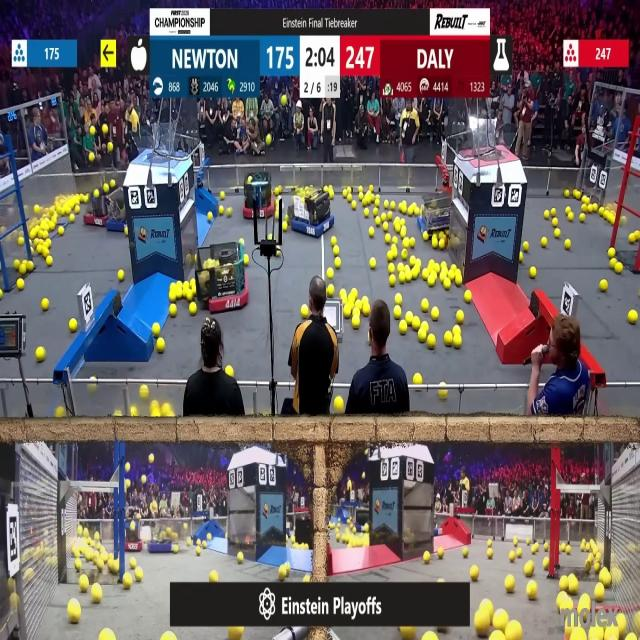ball_airborne: (132, 110, 139, 123), (102, 126, 109, 136), (267, 135, 273, 146), (281, 96, 287, 106), (90, 152, 96, 161), (91, 128, 97, 137), (108, 142, 113, 152), (149, 452, 154, 462), (348, 481, 353, 491), (136, 515, 140, 522), (360, 471, 364, 478)
ball_ground: (494, 612, 507, 633), (68, 600, 80, 622), (508, 623, 522, 640), (402, 627, 417, 640), (527, 583, 537, 601), (92, 586, 102, 604), (568, 578, 578, 596), (618, 617, 628, 634), (504, 578, 514, 594), (600, 570, 610, 586), (581, 595, 592, 609), (482, 600, 493, 614), (595, 586, 604, 603), (335, 396, 345, 411), (628, 311, 638, 325), (279, 564, 288, 579), (36, 347, 45, 362), (101, 630, 114, 640), (79, 578, 88, 592), (9, 594, 18, 608), (469, 565, 477, 580), (158, 339, 166, 354), (426, 336, 434, 350), (122, 574, 130, 588), (210, 570, 219, 582), (418, 329, 427, 341), (163, 405, 172, 417), (352, 316, 360, 329), (41, 299, 49, 312), (302, 306, 310, 319), (398, 321, 406, 334), (560, 579, 568, 592), (525, 563, 533, 576), (140, 386, 148, 399), (57, 408, 66, 419), (454, 337, 462, 349), (188, 304, 196, 316), (616, 264, 624, 276), (421, 300, 429, 312), (445, 334, 453, 346), (412, 318, 420, 330), (412, 269, 420, 281), (457, 311, 464, 324), (152, 323, 159, 336), (70, 319, 77, 332), (136, 568, 143, 581), (414, 374, 422, 385), (440, 389, 448, 400), (18, 265, 26, 276), (150, 400, 158, 411), (600, 280, 607, 292), (431, 308, 438, 320), (362, 305, 369, 317), (326, 285, 333, 297), (344, 307, 351, 319), (407, 312, 414, 324), (112, 561, 119, 573), (225, 365, 233, 375), (628, 234, 636, 244), (464, 290, 471, 301), (394, 307, 401, 318), (351, 288, 358, 299), (445, 279, 452, 290), (405, 272, 412, 283), (608, 213, 615, 224), (186, 289, 193, 300), (171, 305, 177, 317), (424, 552, 430, 564), (456, 274, 462, 286), (28, 262, 34, 274), (453, 325, 461, 334), (432, 237, 438, 249), (354, 301, 362, 310), (16, 280, 23, 290), (395, 293, 402, 303), (45, 256, 52, 266), (607, 248, 614, 258), (564, 240, 571, 250), (389, 276, 396, 286), (540, 238, 547, 248), (387, 250, 394, 260), (172, 543, 179, 553), (75, 560, 82, 570), (170, 291, 177, 301), (507, 552, 514, 562), (164, 633, 174, 640), (117, 271, 123, 282), (530, 268, 536, 279), (369, 257, 375, 268), (428, 276, 434, 287), (336, 257, 342, 268), (398, 273, 404, 284), (422, 270, 428, 281), (440, 239, 446, 250), (388, 265, 395, 274), (36, 246, 43, 255), (42, 246, 49, 255), (341, 288, 347, 298), (524, 242, 530, 252), (519, 252, 525, 262), (326, 269, 332, 279), (542, 559, 548, 569), (131, 558, 137, 568), (487, 550, 493, 560), (238, 554, 244, 564), (132, 408, 138, 418), (385, 235, 391, 245), (609, 258, 615, 268), (401, 250, 407, 260), (244, 254, 250, 264), (394, 221, 400, 231), (433, 262, 439, 272), (400, 204, 406, 214), (98, 559, 104, 569), (437, 549, 442, 560), (515, 549, 520, 560), (555, 230, 561, 239), (402, 239, 408, 248), (462, 549, 468, 558), (368, 229, 374, 238), (60, 225, 66, 234), (335, 247, 341, 256), (532, 543, 538, 552), (400, 230, 406, 239), (409, 207, 415, 216), (123, 462, 129, 471), (588, 204, 594, 213), (449, 272, 455, 281), (579, 542, 585, 551), (568, 212, 573, 222), (553, 217, 558, 227), (411, 238, 416, 248), (411, 256, 416, 266), (564, 208, 571, 215), (282, 222, 288, 230), (305, 574, 311, 582), (383, 222, 389, 230), (226, 208, 232, 216), (363, 209, 369, 217), (564, 189, 570, 197), (391, 237, 397, 245), (442, 263, 448, 271), (70, 215, 76, 223), (17, 238, 23, 246), (397, 265, 403, 273), (358, 192, 364, 200), (45, 240, 51, 248), (390, 202, 396, 210), (171, 282, 177, 290), (375, 200, 381, 208), (428, 259, 434, 267), (566, 545, 572, 553), (363, 524, 369, 532), (579, 213, 584, 222), (423, 233, 428, 242), (75, 206, 80, 215), (384, 201, 389, 210), (49, 221, 54, 230), (362, 295, 368, 302), (451, 265, 457, 272), (114, 412, 120, 419), (331, 238, 336, 246), (219, 207, 224, 215), (198, 548, 202, 558), (376, 217, 381, 225), (543, 211, 548, 219), (385, 212, 390, 220), (0, 289, 4, 299), (514, 537, 519, 545), (275, 212, 280, 220), (552, 209, 557, 217), (441, 274, 446, 282), (361, 199, 366, 207), (208, 212, 212, 221), (439, 577, 445, 583), (276, 250, 282, 256), (189, 280, 195, 286), (269, 235, 274, 242), (240, 239, 245, 246), (186, 538, 191, 545), (183, 280, 188, 287), (328, 191, 333, 198), (400, 217, 405, 224), (352, 202, 356, 210), (488, 539, 492, 547), (348, 192, 352, 200), (123, 226, 127, 234), (543, 542, 547, 550), (192, 254, 196, 262), (195, 539, 200, 545), (220, 191, 224, 198), (372, 209, 376, 216), (208, 534, 212, 540), (204, 540, 207, 547)
goal: (464, 121, 520, 160), (126, 129, 187, 159)
robot_blue: (290, 185, 334, 237), (149, 520, 183, 553), (422, 197, 452, 233)
robot_red: (196, 244, 248, 311), (84, 183, 128, 229), (242, 168, 273, 218), (124, 520, 145, 551)
